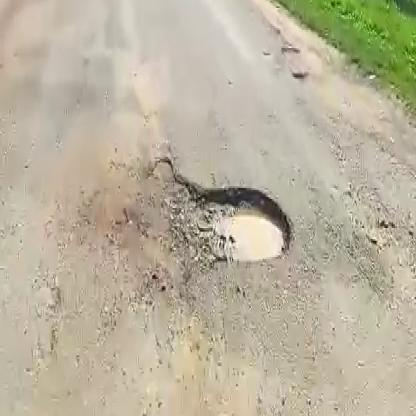pothole: (131, 154, 300, 278)
